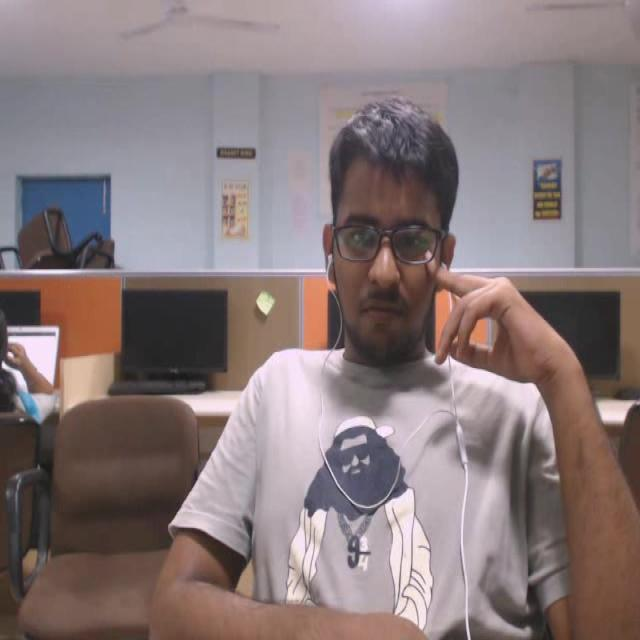Engaged: (296, 77, 485, 404)
